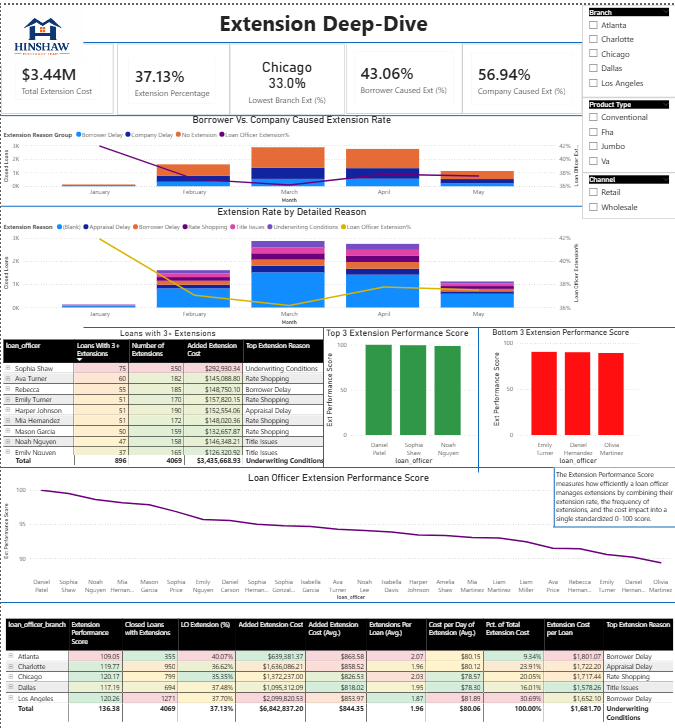

Layout of this report page (visuals, bound fields, positions):
{"tool":"powerbi","page":{"name":"Extension Deep-Dive","canvas":[1350,1450],"ordinal":4},"visuals":[{"type":"textbox","box":[10,0,1270,100],"z":0},{"type":"pivotTable","fields":{"Rows":["public loan_extension_model.loan_officer"],"Values":["Calendar.Ext Performance Score","public loan_extension_model.Funded Loans With Extension","public loan_extension_model.Loan Officer Extension%","Sum(public loan_extension_model.total_extension_cost)","Avg(public loan_extension_model.extension_fee_amount)","Avg(public loan_extension_model.extension_count)","Calendar.Avg Cost Per Extension Day","Calendar.Pct of Total Extension Cost","Calendar.Ext Cost per Pipeline Loan","Calendar.Top Extension Reason"]},"box":[4.9,1209.2,1344.6,241.3],"z":1000},{"type":"lineStackedColumnComboChart","title":"Borrower Vs. Company Caused Extension Rate","fields":{"Category":["Calendar.Date.Variation.Date Hierarchy.Month"],"Y2":["public loan_extension_model.Loan Officer Extension%"],"Y":["public loan_extension_model.Closed Loans"],"Series":["public loan_extension_model.Extension Reason Group"]},"box":[0,217.5,1162.5,185],"z":2000},{"type":"lineStackedColumnComboChart","title":"Extension Rate by Detailed Reason","fields":{"Series":["public loan_extension_model.reason_code"],"Y":["public loan_extension_model.Closed Loans"],"Category":["Calendar.Date.Variation.Date Hierarchy.Month"],"Y2":["public loan_extension_model.Loan Officer Extension%"]},"box":[0,401.4,1162.4,221.6],"z":3000},{"type":"cardVisual","fields":{"Data":["public loan_extension_model.Funded Ext Pct"]},"box":[232.5,77.5,225,142.5],"z":4000},{"type":"cardVisual","fields":{"Data":["Sum(public loan_extension_model.total_extension_cost)"]},"box":[0,76.3,231.5,142.8],"z":5000},{"type":"cardVisual","fields":{"Data":["Calendar.Pct Borrower Extensions"]},"box":[690,75,232.5,142.5],"z":6000},{"type":"cardVisual","fields":{"Data":["Calendar.Pct Company Extensions"]},"box":[922.5,77.5,240,140],"z":7000},{"type":"card","fields":{"Values":["Calendar.Lowest Branch Extension Card"]},"box":[457.5,77.5,230,142.5],"z":8000},{"type":"pivotTable","title":"Loans with 3+ Extensions","fields":{"Values":["Calendar.Loans With 3+ Extensions","CountNonNull(public loan_extension_model.extension_count)","Sum(public loan_extension_model.extension_fee_amount)","Calendar.Top Extension Reason"],"Rows":["public loan_extension_model.loan_officer","public loan_extension_model.loan_number"]},"box":[0,903.8,667.4,302.9],"z":9000},{"type":"lineChart","title":"Loan Officer Extension Performance Score","fields":{"Y":["Calendar.Ext Performance Score"],"Category":["public loan_extension_model.loan_officer"]},"box":[0,642.8,1349.5,258.6],"z":10000},{"type":"shape","box":[0,0,1349.5,145.3],"z":11000},{"type":"shape","box":[0,252.5,1162.5,300],"z":12000},{"type":"shape","box":[0,179.8,1162.4,73.9],"z":13000},{"type":"shape","box":[0,753.6,1349.5,300.4],"z":14000},{"type":"shape","box":[0,581.2,1349.5,71.4],"z":15000},{"type":"shape","box":[524.5,926,280.7,280.7],"z":16000},{"type":"shape","box":[0,1196.8,1349.5,24.6],"z":17000},{"type":"image","box":[0,0,165,120],"z":18000},{"type":"slicer","fields":{"Values":["public loan_extension_model.loan_officer_branch"]},"box":[1162.5,0,187.5,185],"z":19000},{"type":"slicer","fields":{"Values":["public loan_extension_model.product_type"]},"box":[1162.5,185,187.5,150],"z":20000},{"type":"slicer","fields":{"Values":["public loan_extension_model.channel"]},"box":[1162.5,335,187.5,92.5],"z":21000},{"type":"textbox","box":[1105.7,623.1,243.8,130.5],"z":22000},{"type":"shape","box":[1105.7,696.9,243.8,71.4],"z":23000},{"type":"shape","box":[958,615.7,298,118.2],"z":24000},{"type":"lineStackedColumnComboChart","title":"Extension Cost per Loan Vs. Closed Branch Volume","fields":{"Category":["public loan_extension_model.loan_officer_branch"],"Y2":["Calendar.Closed Loan Count"],"Y":["Calendar.Ext Cost per Pipeline Loan"]},"box":[667.4,901.3,682.2,295.5],"z":25000}]}

Visuals, with their boxes in screenshot pixels (x1, y1, x2, y2), scaled from the page's 1350x1450 canvas onto the 675x728 screenshot:
textbox: box=[5, 0, 640, 50]
pivotTable - public loan_extension_model.loan_officer x Calendar.Ext Performance Score: box=[2, 607, 674, 727]
"Borrower Vs. Company Caused Extension Rate" lineStackedColumnComboChart: box=[0, 109, 581, 202]
"Extension Rate by Detailed Reason" lineStackedColumnComboChart: box=[0, 202, 581, 313]
cardVisual - public loan_extension_model.Funded Ext Pct: box=[116, 39, 229, 110]
cardVisual - Sum(public loan_extension_model.total_extension_cost): box=[0, 38, 116, 110]
cardVisual - Calendar.Pct Borrower Extensions: box=[345, 38, 461, 109]
cardVisual - Calendar.Pct Company Extensions: box=[461, 39, 581, 109]
card - Calendar.Lowest Branch Extension Card: box=[229, 39, 344, 110]
"Loans with 3+ Extensions" pivotTable: box=[0, 454, 334, 606]
"Loan Officer Extension Performance Score" lineChart: box=[0, 323, 674, 453]
shape: box=[0, 0, 674, 73]
shape: box=[0, 127, 581, 277]
shape: box=[0, 90, 581, 127]
shape: box=[0, 378, 674, 529]
shape: box=[0, 292, 674, 328]
shape: box=[262, 465, 403, 606]
shape: box=[0, 601, 674, 613]
image: box=[0, 0, 82, 60]
slicer - public loan_extension_model.loan_officer_branch: box=[581, 0, 674, 93]
slicer - public loan_extension_model.product_type: box=[581, 93, 674, 168]
slicer - public loan_extension_model.channel: box=[581, 168, 674, 215]
textbox: box=[553, 313, 674, 378]
shape: box=[553, 350, 674, 386]
shape: box=[479, 309, 628, 368]
"Extension Cost per Loan Vs. Closed Branch Volume" lineStackedColumnComboChart: box=[334, 453, 674, 601]
